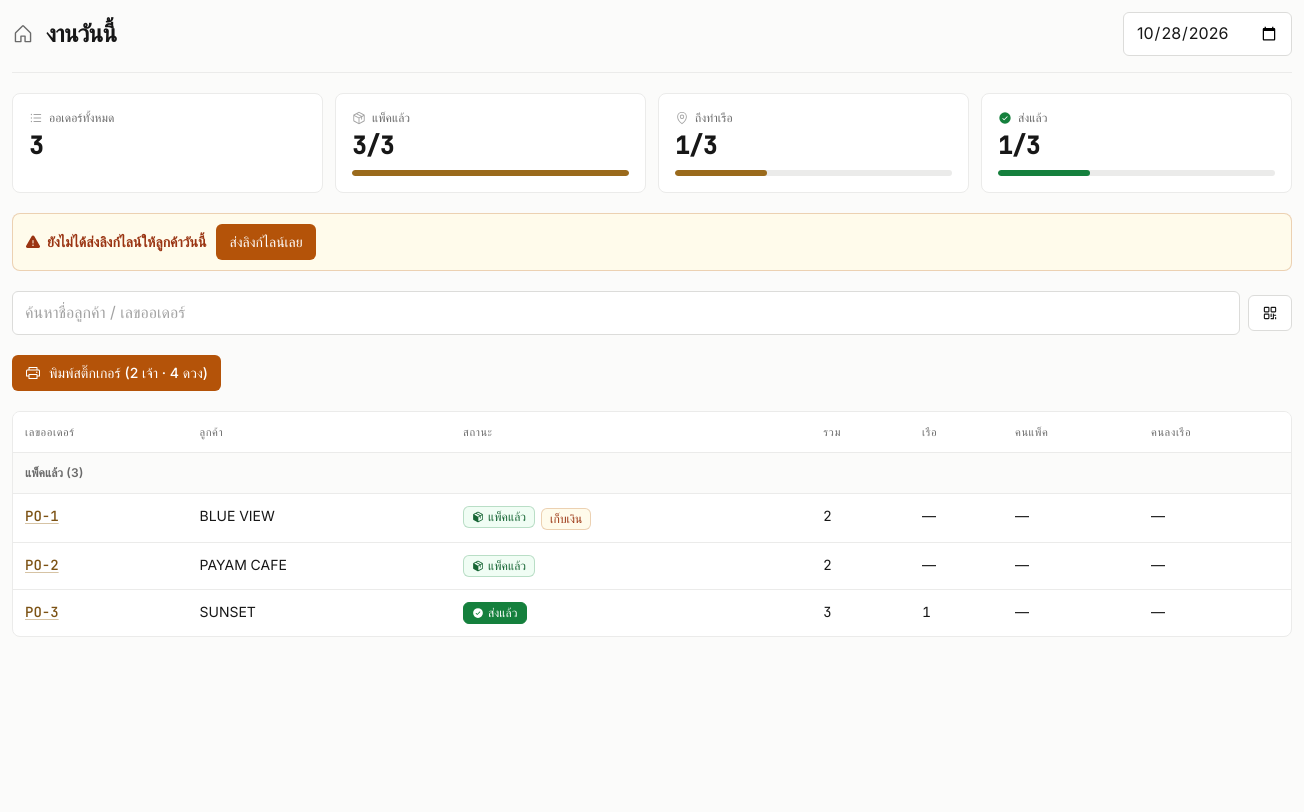
Test: prompts to send LINE links when they have not been sent yet for today, and the prompt clears once sent
The width and height of the screenshot is (1304, 812).
Expected: the text "BLUE VIEW" is shown, [188, 494, 451, 542]
Expected: the text "ยังไม่ได้ส่งลิงก์ไลน์ให้ลูกค้าวันนี้" is shown, [47, 233, 206, 250]
Click the button "ส่งลิงก์ไลน์เลย": x=266, y=242 [216, 224, 316, 260]
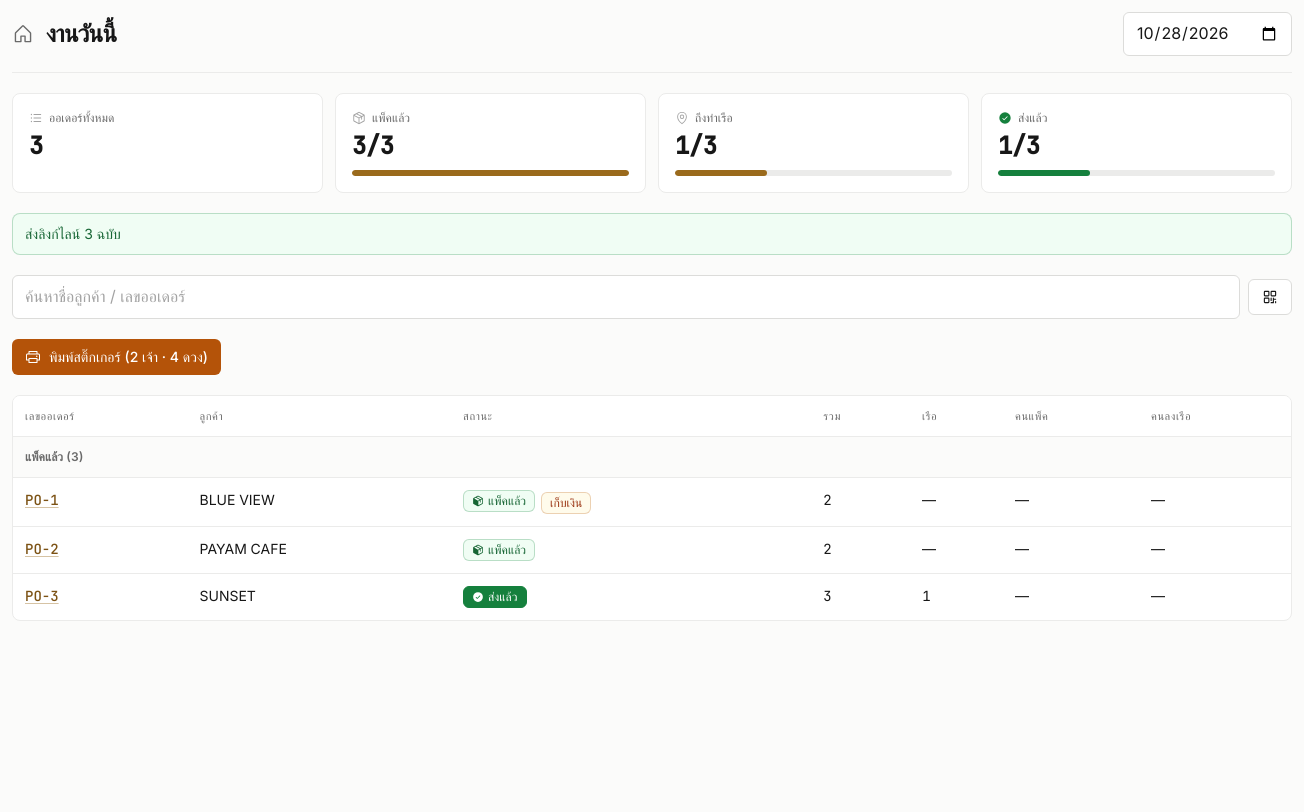
Expected: the text "ส่งลิงก์ไลน์ 3 ฉบับ" is shown, [25, 225, 121, 242]
Expected: the text "ยังไม่ได้ส่งลิงก์ไลน์ให้ลูกค้าวันนี้" is gone
